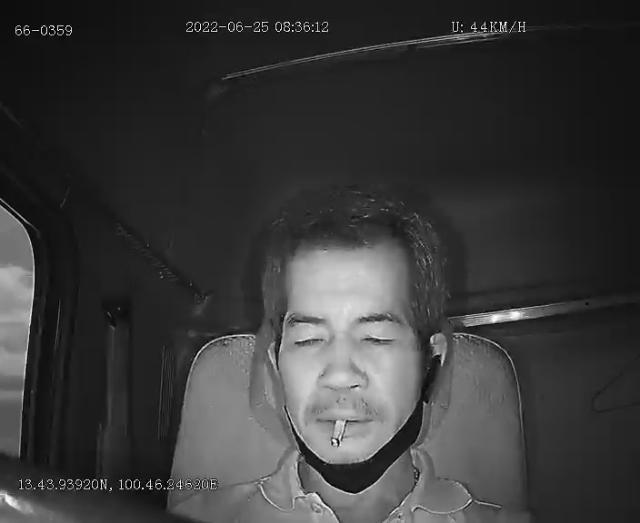SafeDriving: (282, 323, 332, 354)
Smoking: (326, 421, 346, 450)
